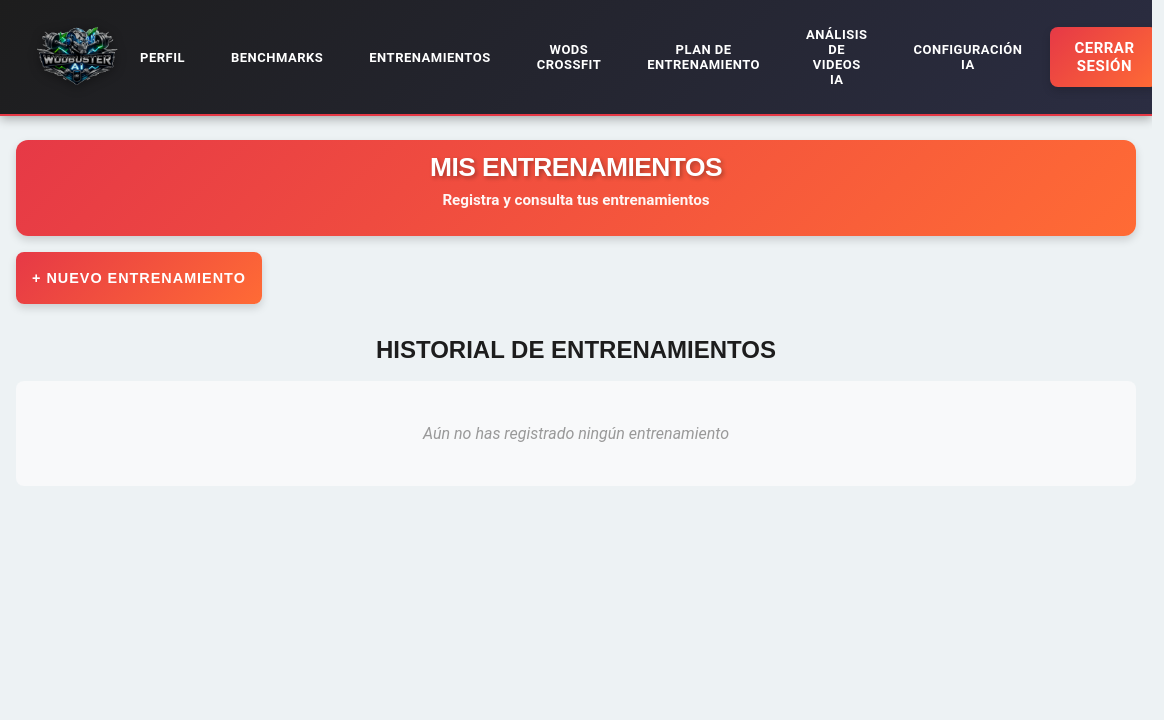
Entrenamientos (componente) › renderiza la lista y permite abrir el formulario
Check: the heading "Mis Entrenamientos" is shown, box left=430, top=152, right=722, bottom=182
Botón con texto exacto
Click the button "+ Nuevo Entrenamiento" at x=139, y=278, box left=16, top=252, right=262, bottom=304
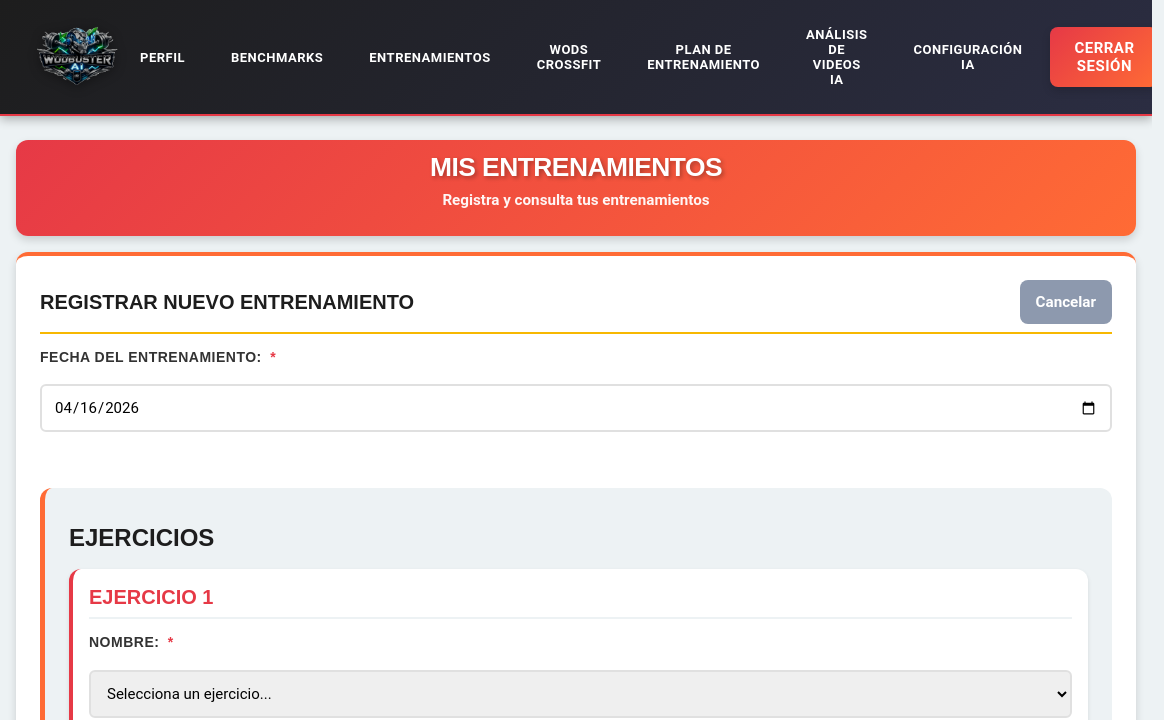
Check: the heading "Registrar Nuevo Entrenamiento" is shown, box left=40, top=290, right=414, bottom=314
